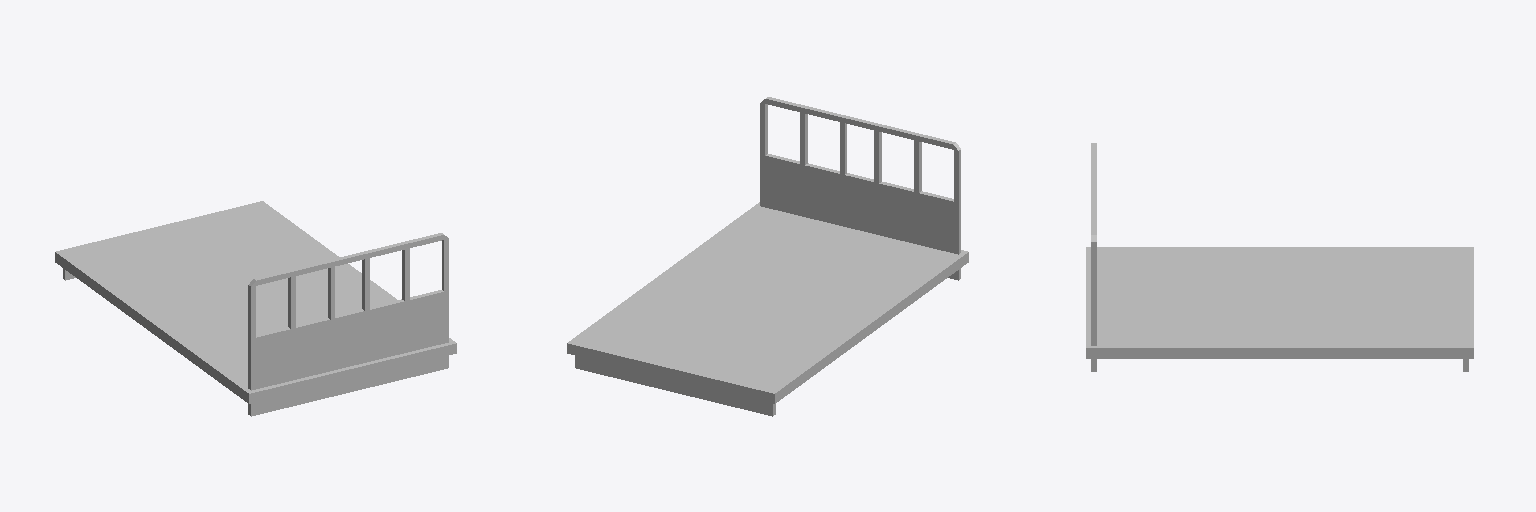
The model's file is brigbedflat.obj.
3 views of the same model, side by side, from view 1: azimuth 30°, elevation 25°; view 2: azimuth 150°, elevation 25°; view 3: azimuth 270°, elevation 25° (orthographic).
Visible parts, largest first — view 1: ObjObject; view 2: ObjObject; view 3: ObjObject.
Part boxes in pixels (x1,y1,x2,y2): ObjObject: (55,201,456,416); ObjObject: (567,97,968,416); ObjObject: (1086,143,1473,371).
Size of the model in its own units: 2.62 by 1.62 by 4.25.